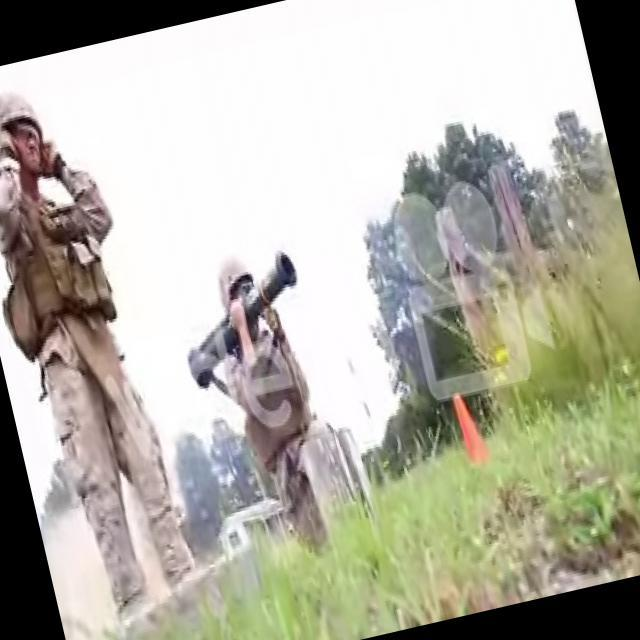rocket: (166, 250, 316, 398)
